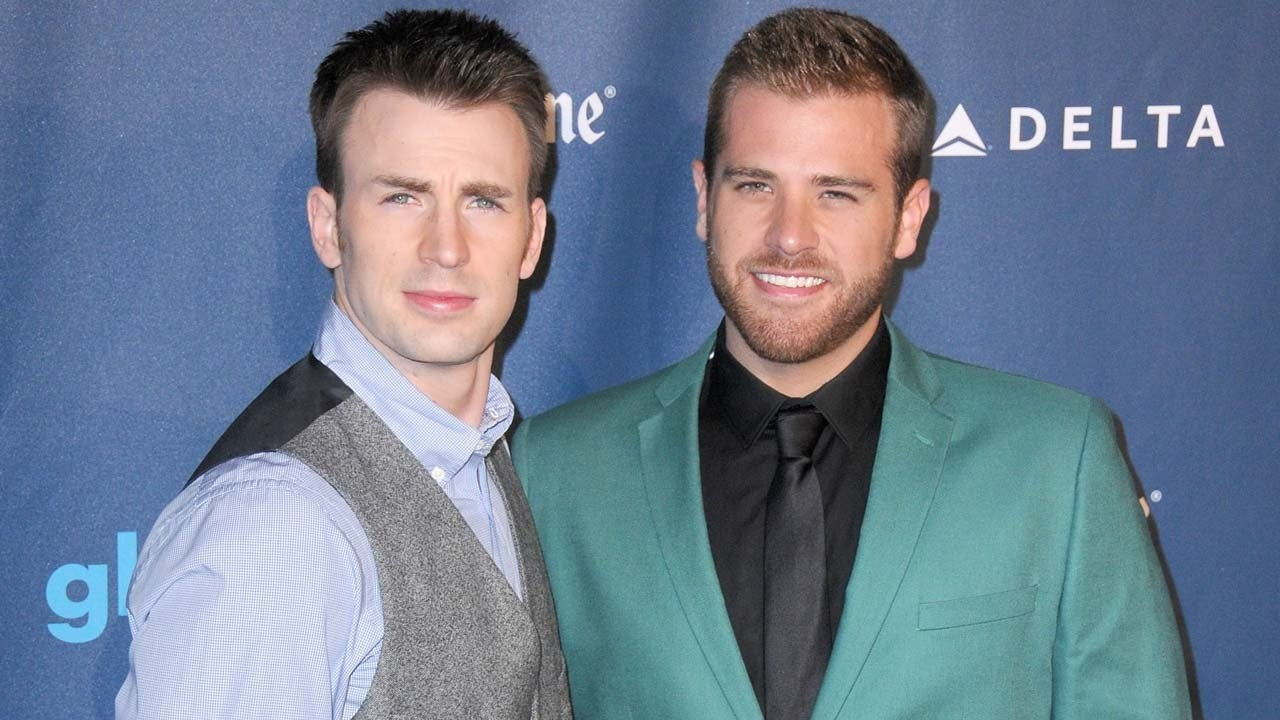bad: (340, 142, 563, 365), (696, 139, 882, 325)
